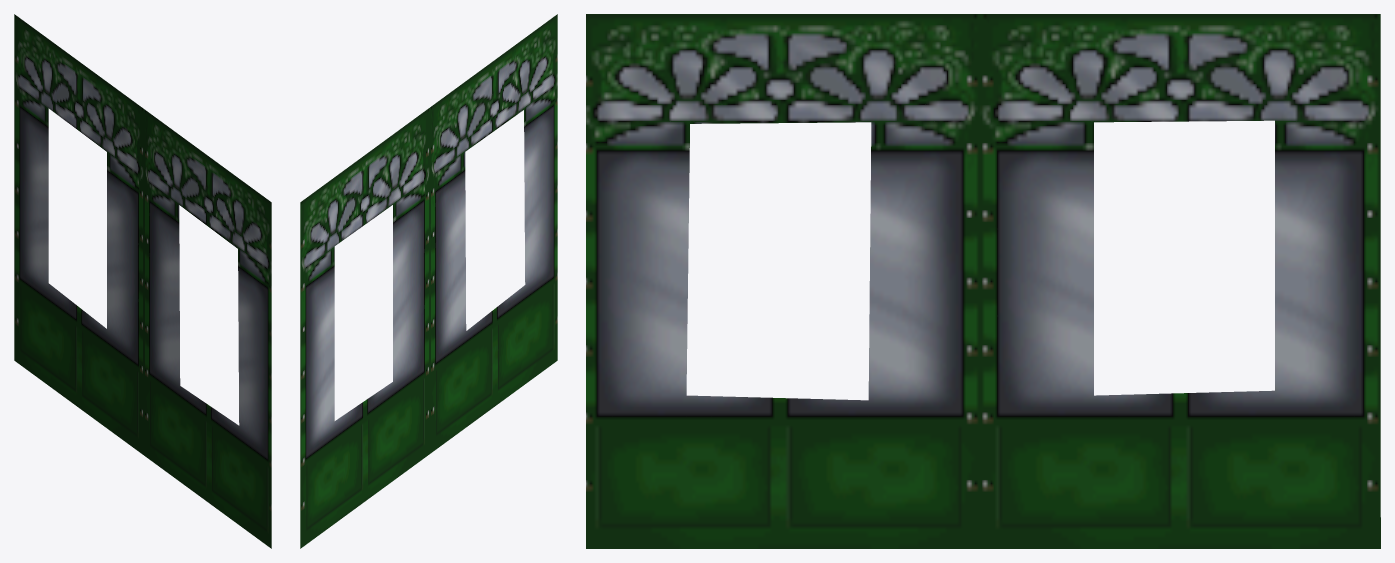
The model's file is W_AI2l_ff [GrünesMetall]_316.glb.
3 views of the same model, side by side, from view 1: azimuth 30°, elevation 25°; view 2: azimuth 150°, elevation 25°; view 3: azimuth 270°, elevation 25° (orthographic). The views are drawn at different scales.
Parts seen in each view (by area): view 1: pPlaneShape2; view 2: pPlaneShape2; view 3: pPlaneShape2.
Part boxes in pixels (box(x1,y1,x2,y2)): pPlaneShape2: box(14, 14, 271, 548); pPlaneShape2: box(300, 14, 557, 548); pPlaneShape2: box(586, 14, 1380, 548).
Size of the model in its own units: 1.58e-07 by 0.3486 by 0.4693.
1 material, 1 textured.
